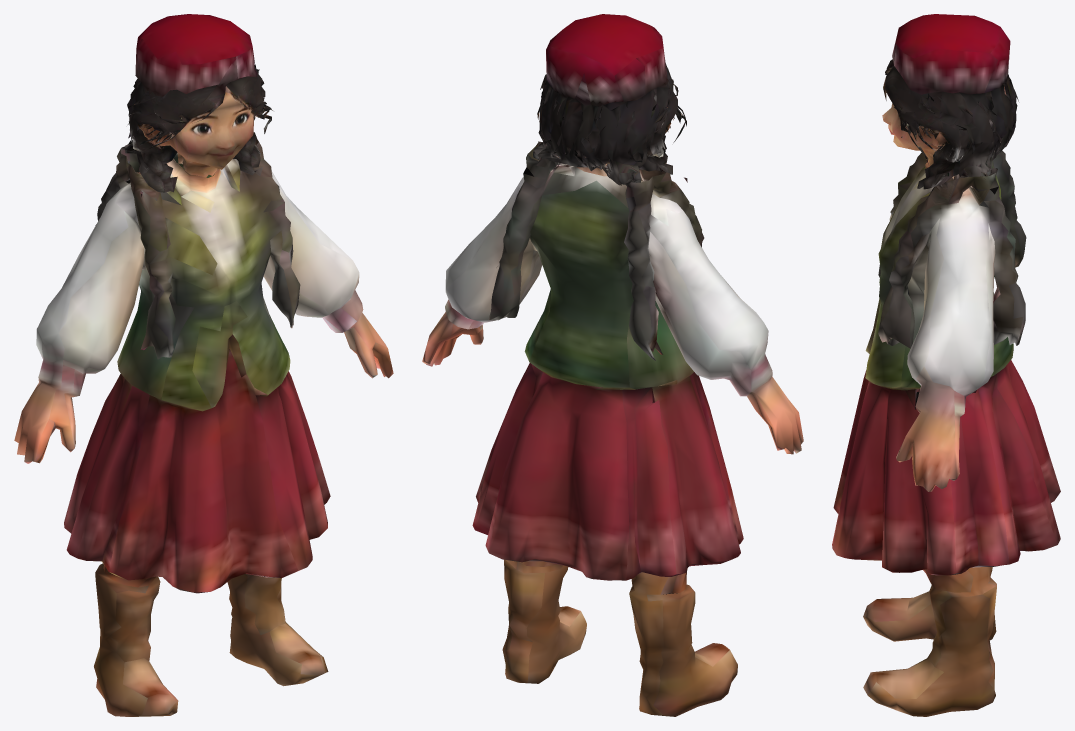
File: child.gen.phone.glb
3 views of the same model, side by side, from view 1: azimuth 30°, elevation 25°; view 2: azimuth 150°, elevation 25°; view 3: azimuth 270°, elevation 25° (orthographic). The views are drawn at different scales.
Visible parts, largest first — view 1: child.raw; view 2: child.raw; view 3: child.raw.
Part boxes in pixels (x1,y1,x2,y2): child.raw: (14, 14, 393, 716); child.raw: (422, 14, 803, 716); child.raw: (832, 14, 1060, 716).
Bounding box in the file's own units: 0.6729 × 1.15 × 0.3693.
Materials: 1 (1 with a texture image).
